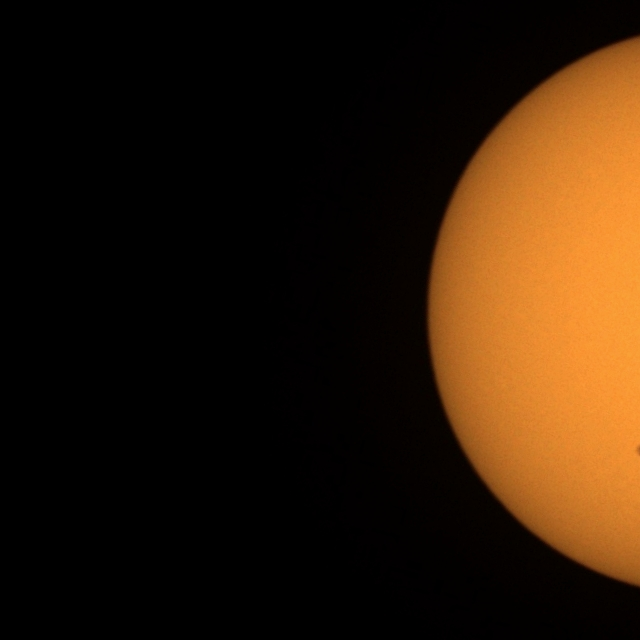sunspot: (634, 445, 640, 457)
